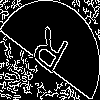R: (25, 25, 71, 83)
